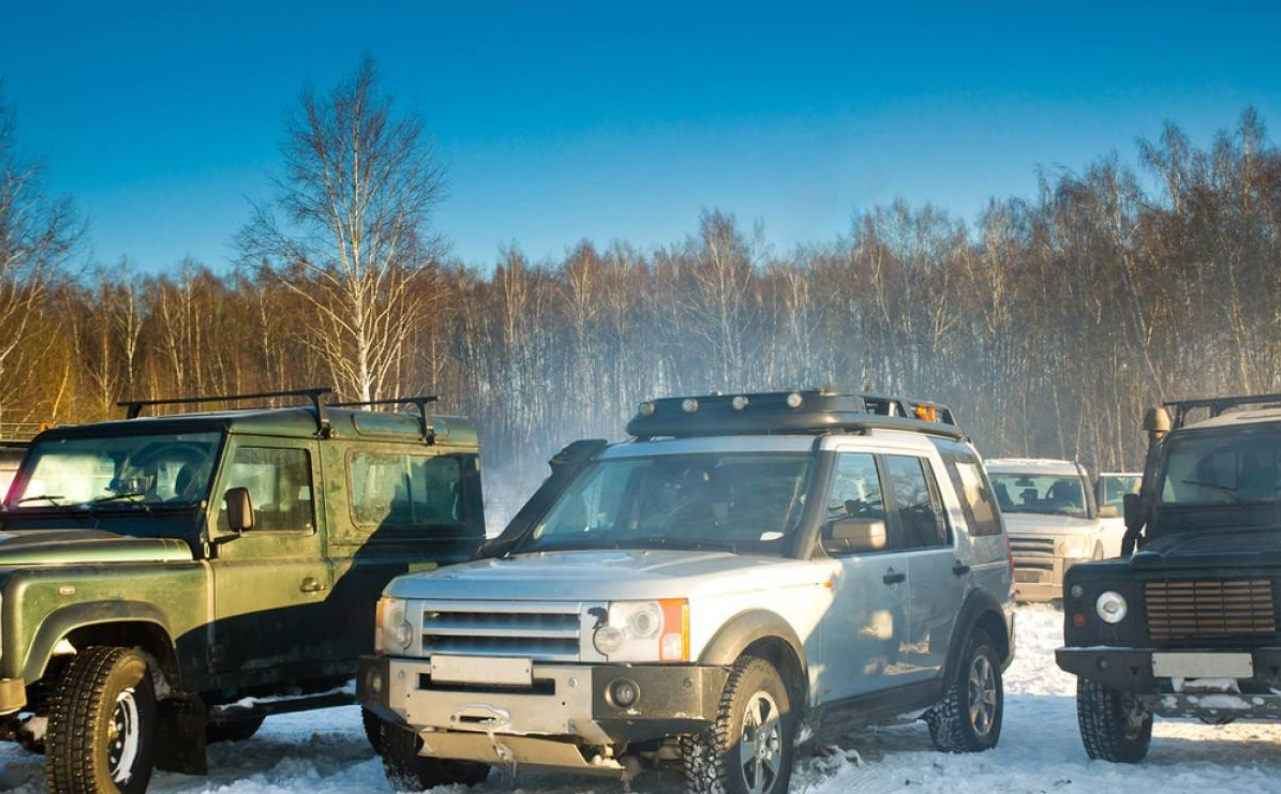jeep: (358, 370, 1017, 794)
